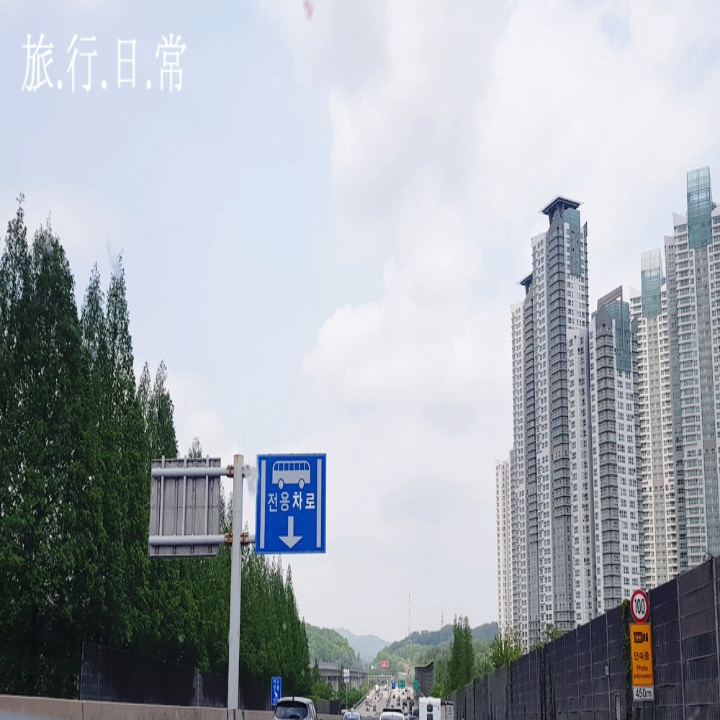bus: (264, 457, 315, 490)
